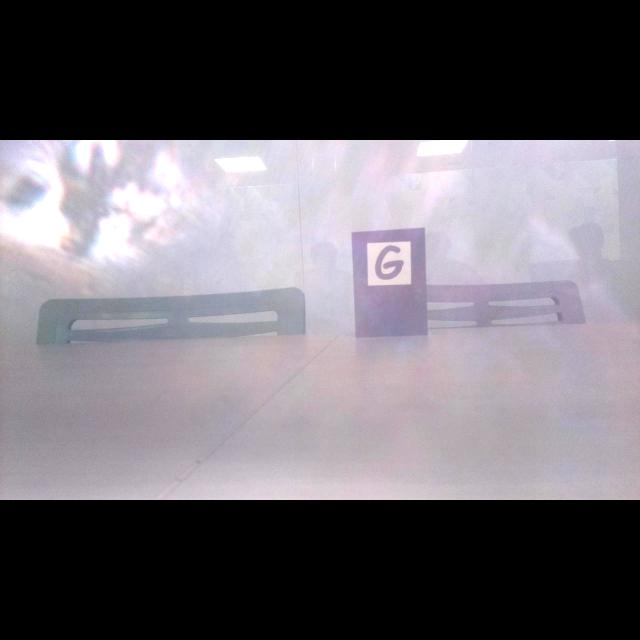G: (375, 246, 404, 279)
